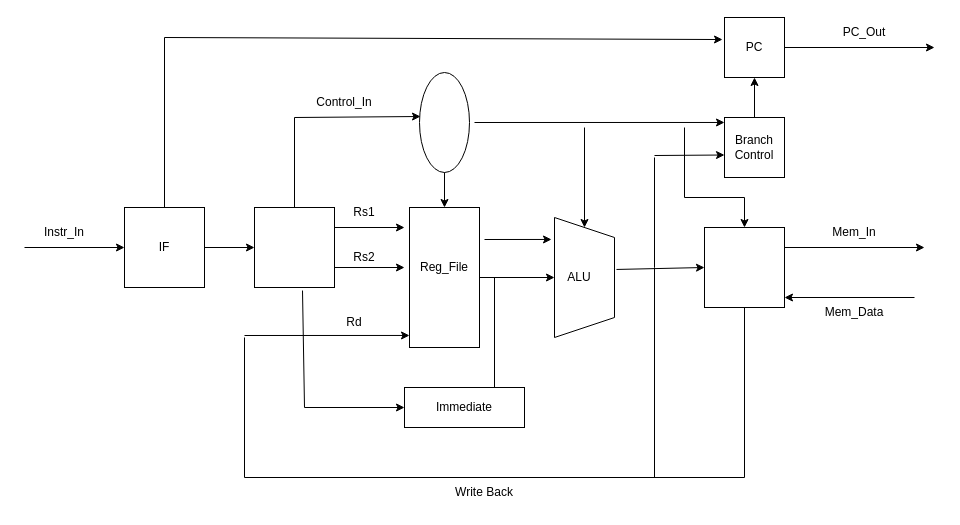
Some shapes in this 960 by 525 pixel diagram are drawn without their labels. The box of each missing label's shape, as (x1, y1, x2, y2) in pixels:
Ctrl: (418, 72, 470, 172)
Decoder: (254, 206, 334, 288)
Mem Control: (704, 226, 784, 308)
